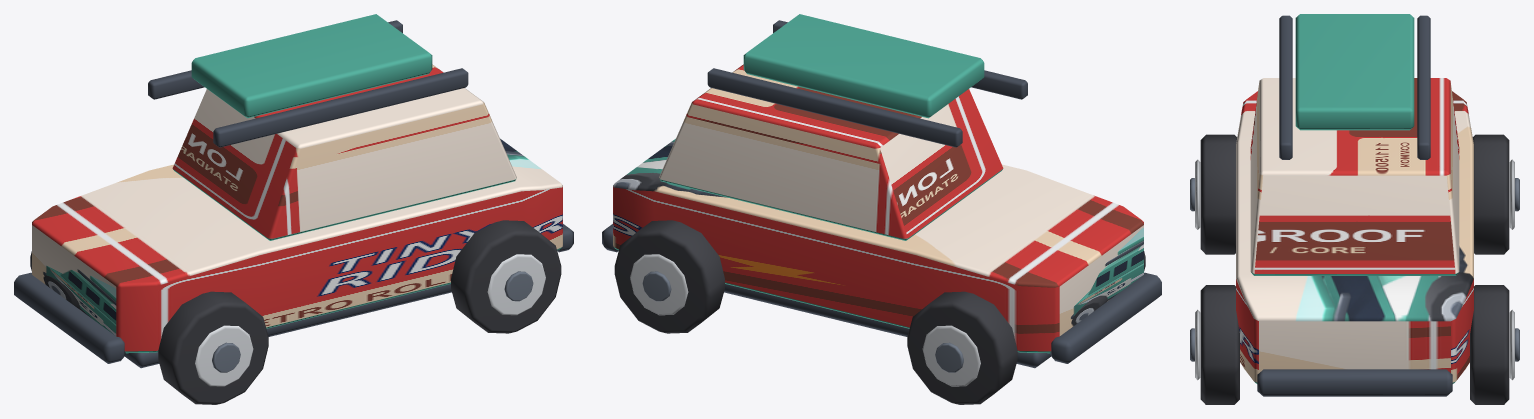
3 renders of one model, left to right at view 1: azimuth 30°, elevation 25°; view 2: azimuth 150°, elevation 25°; view 3: azimuth 270°, elevation 25°, orthographic. The views are drawn at different scales.
Parts seen in each view (by area): view 1: RR-02_connected_shell, RR-02_cabin, utility load, Tire.002, Tire, utility rail, front bumper, underbody, Rim.002, Rim, utility rail.001, Hub.002 (+1 smaller); view 2: RR-02_connected_shell, RR-02_cabin, utility load, Tire.003, Tire.001, utility rail.001, front bumper, underbody, Rim.003, Rim.001, utility rail, Hub.003 (+1 smaller); view 3: RR-02_cabin, RR-02_connected_shell, utility load, rear bumper, Tire.002, Tire.003, Tire, Tire.001, utility rail, utility rail.001, Rim, Rim.001 (+2 smaller).
Part boxes in pixels (x1,y1,x2,y2): RR-02_connected_shell: (32, 138, 562, 353); RR-02_cabin: (172, 64, 516, 240); utility load: (191, 14, 432, 118); Tire.002: (451, 220, 561, 333); Tire: (158, 291, 268, 404); utility rail: (213, 68, 468, 147); front bumper: (14, 272, 125, 363); underbody: (124, 284, 451, 368); Rim.002: (487, 254, 545, 315); Rim: (195, 325, 253, 386); utility rail.001: (148, 20, 402, 99); Hub.002: (504, 271, 533, 301); RR-02_connected_shell: (613, 138, 1143, 353); RR-02_cabin: (659, 64, 1003, 240); utility load: (743, 14, 984, 118); Tire.003: (614, 220, 724, 333); Tire.001: (907, 291, 1017, 404); utility rail.001: (707, 68, 962, 147); front bumper: (1050, 272, 1161, 363); underbody: (724, 284, 1051, 368); Rim.003: (630, 254, 688, 315); Rim.001: (922, 325, 980, 386); utility rail: (773, 20, 1027, 99); Hub.003: (642, 271, 671, 301); RR-02_cabin: (1250, 78, 1459, 275); RR-02_connected_shell: (1236, 91, 1473, 383); utility load: (1295, 14, 1414, 130); rear bumper: (1257, 369, 1452, 396); Tire.002: (1200, 285, 1239, 404); Tire.003: (1470, 285, 1509, 404); Tire: (1200, 134, 1237, 254); Tire.001: (1472, 134, 1509, 254); utility rail: (1279, 15, 1292, 159); utility rail.001: (1417, 15, 1430, 159); Rim: (1195, 159, 1200, 229); Rim.001: (1509, 159, 1514, 229).
Size of the model in its own units: 381 by 199 by 219.
